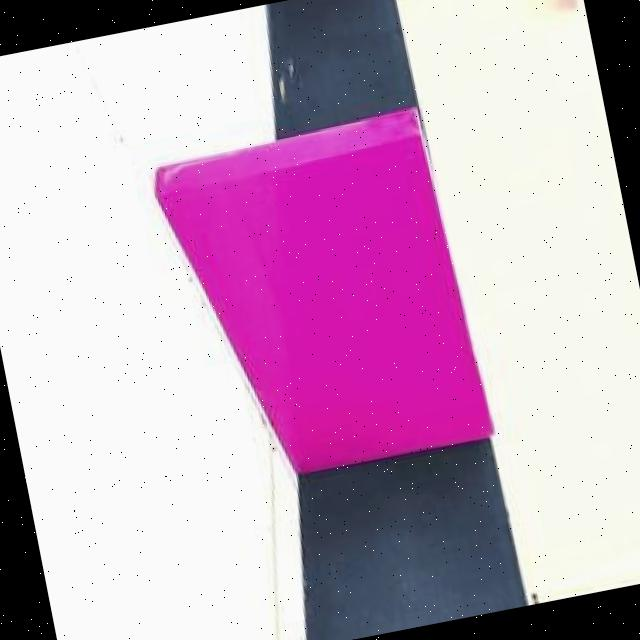xparking: (192, 106, 481, 483)
